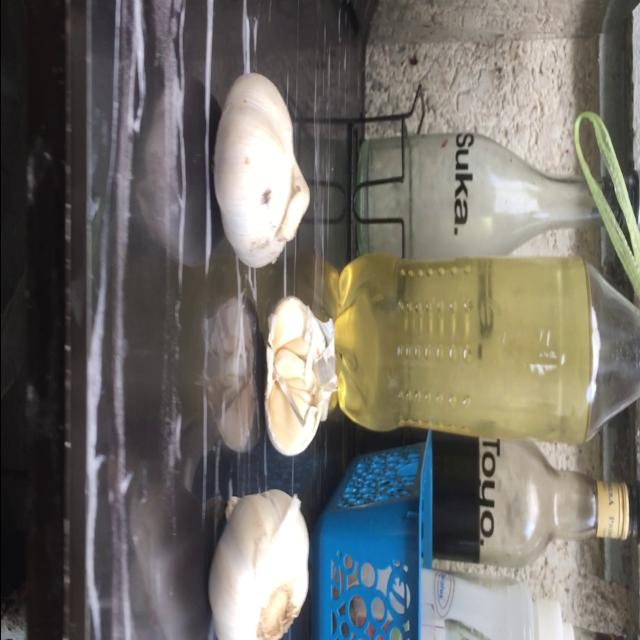bawang: (212, 69, 312, 271), (204, 483, 308, 640), (260, 294, 332, 460)
